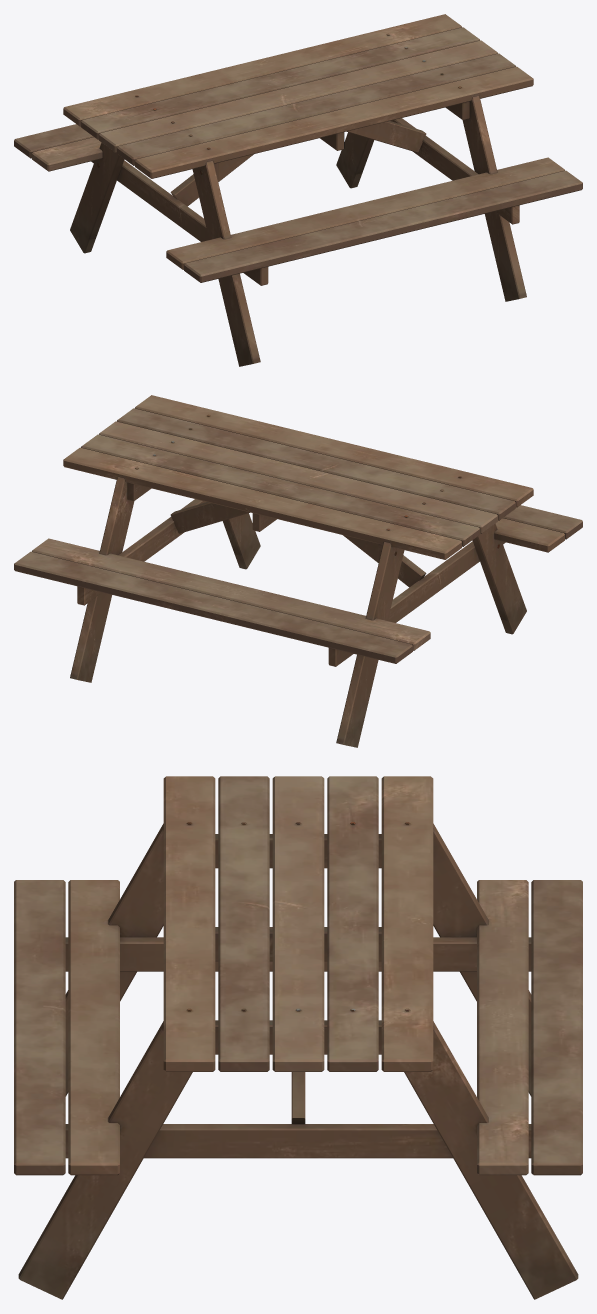
The model's file is picnic_table.glb.
3 views of the same model, one above another, from view 1: azimuth 30°, elevation 25°; view 2: azimuth 150°, elevation 25°; view 3: azimuth 270°, elevation 25° (orthographic). The views are drawn at different scales.
Visible parts, largest first — view 1: picnic_table; view 2: picnic_table; view 3: picnic_table.
Part boxes in pixels (x1,y1,x2,y2): picnic_table: (14,14,582,366); picnic_table: (14,395,582,747); picnic_table: (14,776,582,1299).
Size of the model in its own units: 1.83 by 0.8465 by 1.55.
1 material, 1 textured.
